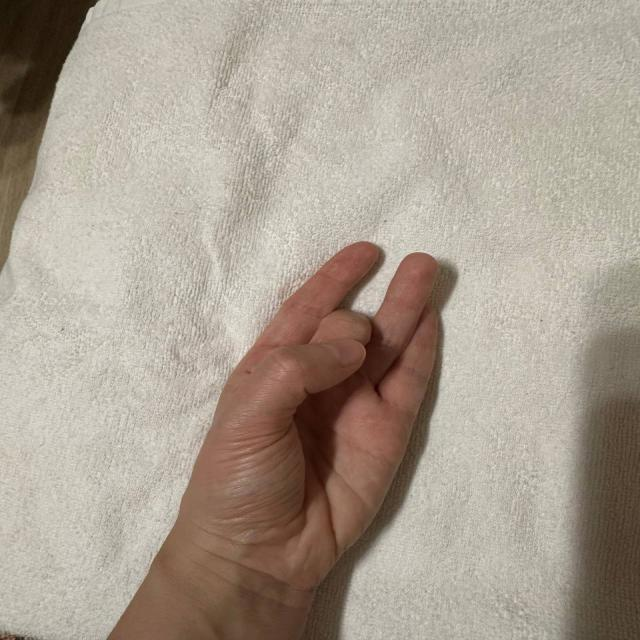r: (144, 193, 514, 545)
